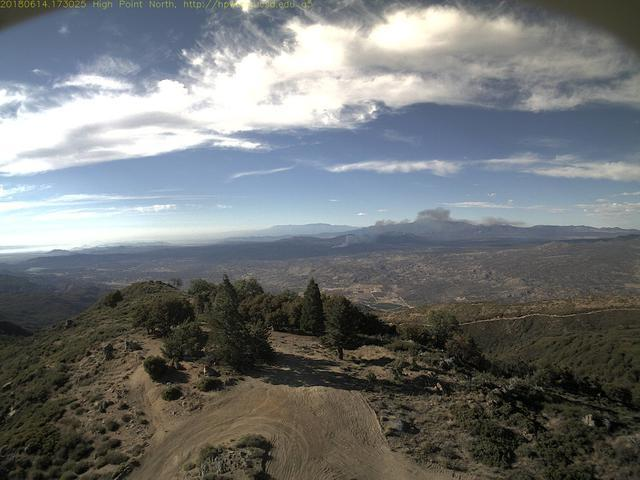smoke: (321, 205, 508, 252)
